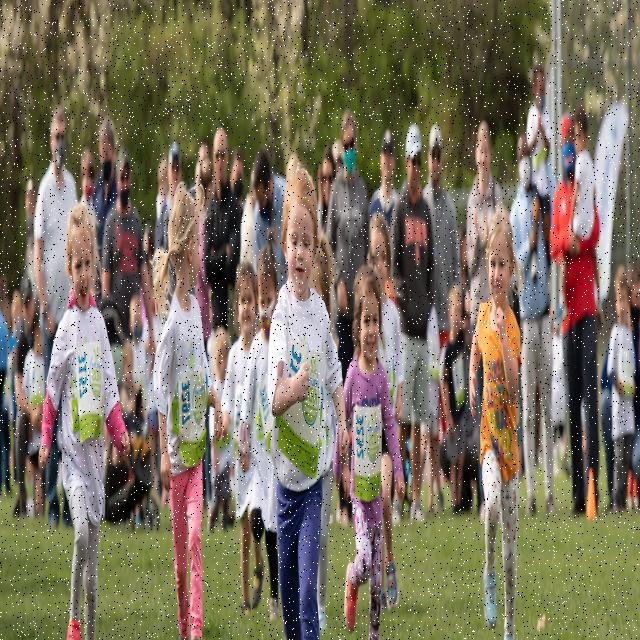Person: (268, 155, 350, 640), (39, 206, 130, 640), (152, 183, 222, 640), (333, 263, 405, 640), (468, 210, 522, 640), (548, 110, 600, 516), (391, 122, 435, 529), (238, 234, 278, 620), (516, 127, 554, 522), (366, 209, 402, 605), (219, 258, 255, 620), (601, 262, 640, 506), (610, 265, 636, 512), (528, 62, 552, 289), (566, 107, 596, 250)
